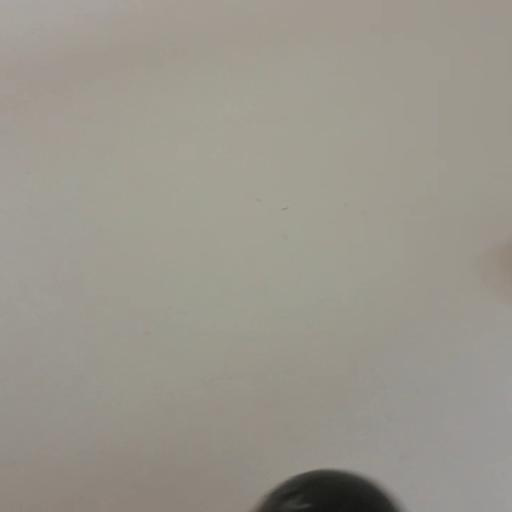dead: (252, 465, 400, 512), (270, 477, 314, 505)
